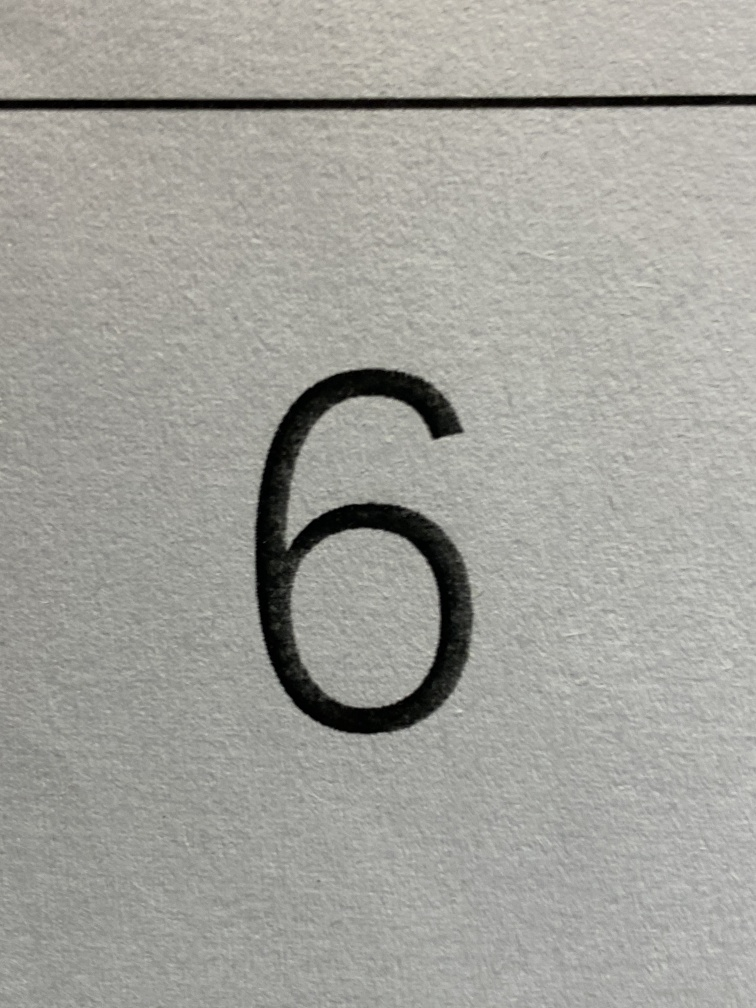six: (166, 300, 551, 808)
